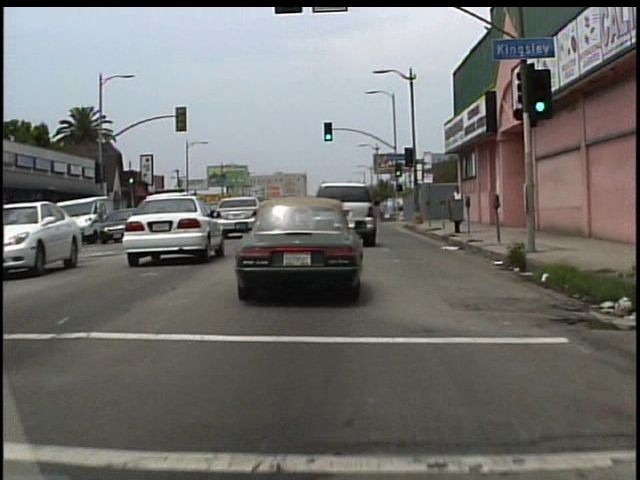person: (450, 185, 466, 227)
